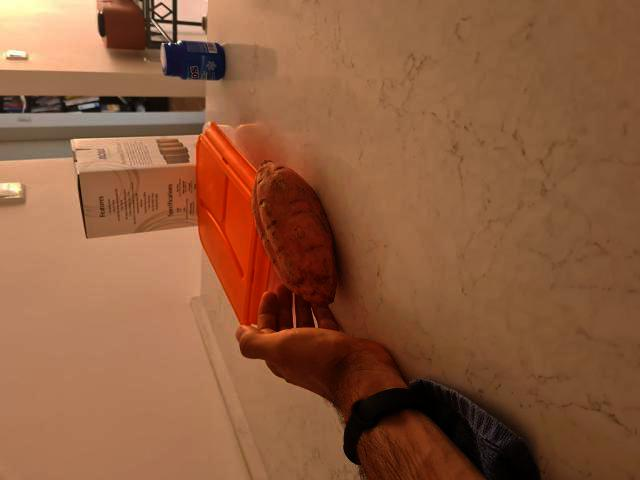sweet_potato: (256, 154, 336, 305)
